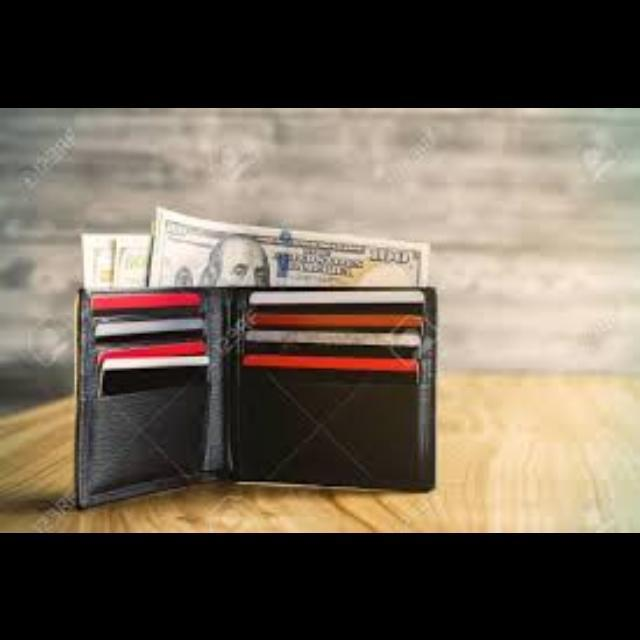wallet: (70, 223, 464, 502)
